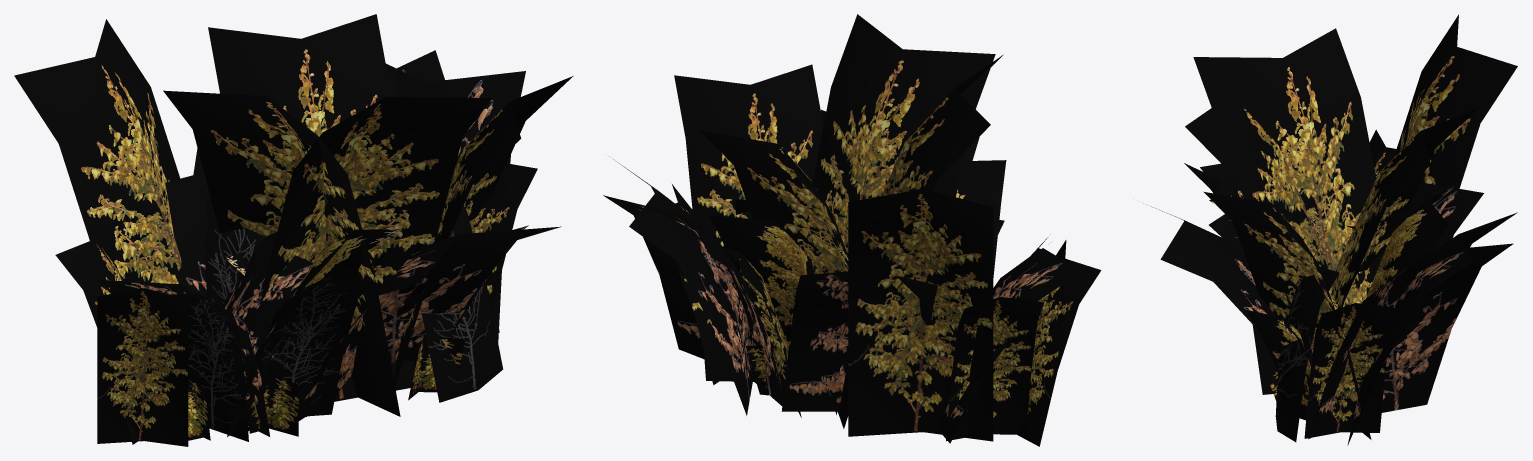
File: shrub.dae
The picture shows the model from 3 angles, left to right: view 1: azimuth 30°, elevation 25°; view 2: azimuth 150°, elevation 25°; view 3: azimuth 270°, elevation 25°; orthographic projection. The views are drawn at different scales.
Parts seen in each view (by area): view 1: polySurface43, polySurface41, polySurface74, polySurface75, polySurface45, polySurface46, polySurface58, polySurface80, polySurface78, polySurface42, polySurface57, polySurface111 (+27 smaller); view 2: polySurface43, polySurface41, polySurface42, polySurface47, polySurface80, polySurface75, polySurface55, polySurface49, polySurface78, polySurface74, polySurface77, polySurface50 (+18 smaller); view 3: polySurface74, polySurface49, polySurface43, polySurface111, polySurface41, polySurface60, polySurface42, polySurface75, polySurface46, polySurface96, polySurface77, polySurface86 (+16 smaller).
Part boxes in pixels (<box>): polySurface43: <box>14,19,181,283</box>; polySurface41: <box>260,97,491,304</box>; polySurface74: <box>163,90,400,416</box>; polySurface75: <box>208,14,414,401</box>; polySurface45: <box>97,288,188,446</box>; polySurface46: <box>298,226,561,420</box>; polySurface58: <box>248,280,370,430</box>; polySurface80: <box>16,22,181,283</box>; polySurface78: <box>262,97,492,299</box>; polySurface42: <box>393,76,573,386</box>; polySurface57: <box>146,293,248,441</box>; polySurface111: <box>165,91,399,415</box>; polySurface43: <box>848,189,993,441</box>; polySurface41: <box>813,14,995,252</box>; polySurface42: <box>674,64,823,381</box>; polySurface47: <box>781,271,937,411</box>; polySurface80: <box>848,189,993,440</box>; polySurface75: <box>700,130,848,273</box>; polySurface55: <box>946,297,1044,441</box>; polySurface49: <box>613,159,752,415</box>; polySurface78: <box>815,16,993,251</box>; polySurface74: <box>838,54,1003,428</box>; polySurface77: <box>603,195,783,405</box>; polySurface50: <box>709,215,814,353</box>; polySurface74: <box>1193,28,1376,394</box>; polySurface49: <box>1308,243,1513,439</box>; polySurface43: <box>1395,14,1517,188</box>; polySurface111: <box>1195,29,1374,394</box>; polySurface41: <box>1185,81,1331,366</box>; polySurface60: <box>1304,303,1397,438</box>; polySurface42: <box>1203,191,1371,439</box>; polySurface75: <box>1331,107,1478,308</box>; polySurface46: <box>1143,203,1279,356</box>; polySurface96: <box>1275,250,1339,442</box>; polySurface77: <box>1347,212,1517,445</box>; polySurface86: <box>1309,244,1511,438</box>.
Bounding box in the file's own units: 4.23 × 2.85 × 3.44.
